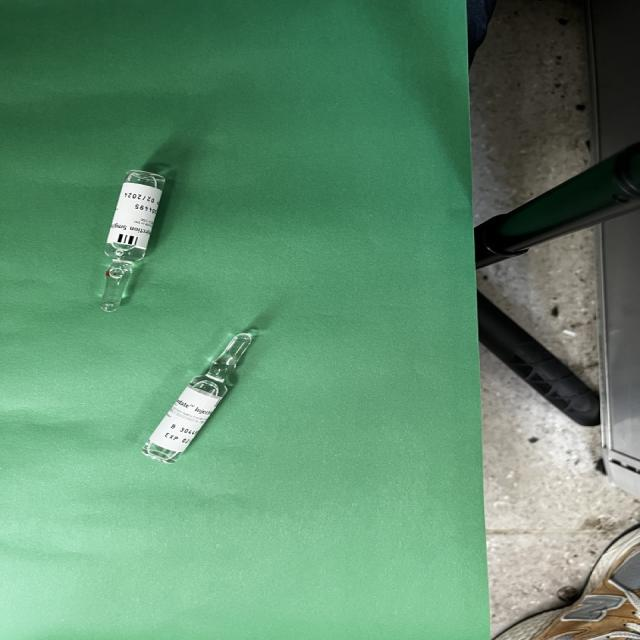Ampoules: (143, 331, 257, 464), (101, 170, 166, 312)
